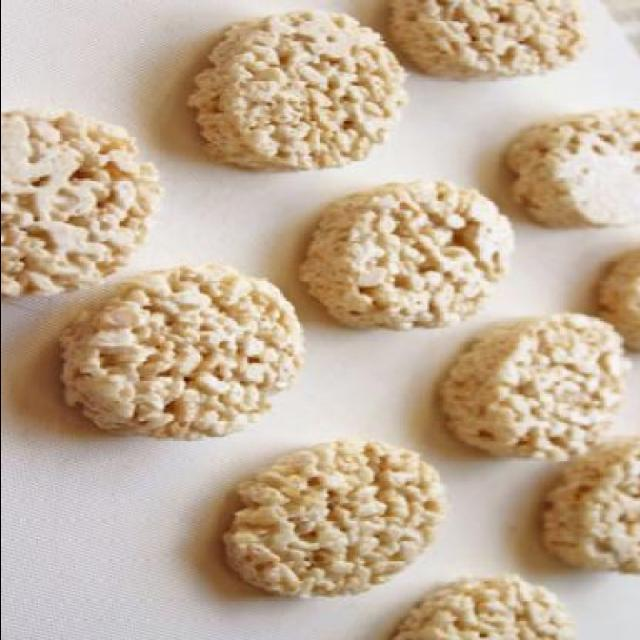Gallette di riso packaged: (54, 257, 306, 445), (220, 444, 452, 602), (189, 13, 406, 179), (316, 176, 512, 336), (438, 313, 632, 469), (0, 109, 156, 302)
